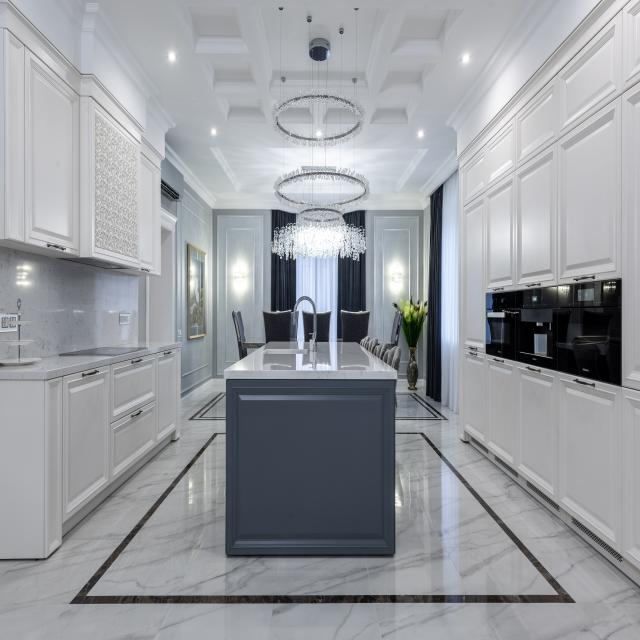floor: (0, 378, 640, 640)
wall: (458, 0, 640, 586), (46, 342, 182, 557), (91, 4, 160, 269), (0, 248, 138, 358), (485, 278, 622, 386), (161, 180, 212, 402), (212, 209, 272, 379), (0, 371, 47, 559), (365, 210, 424, 342), (80, 3, 99, 257), (149, 232, 174, 342), (187, 244, 207, 339), (58, 0, 87, 29), (138, 276, 149, 342), (423, 203, 430, 305), (0, 325, 19, 360)
